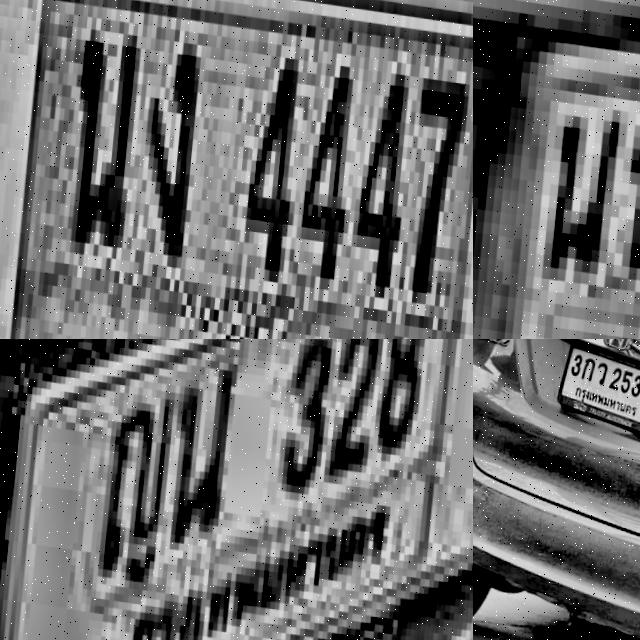license-plate: (0, 0, 473, 339), (0, 339, 473, 640), (473, 0, 640, 339), (555, 339, 640, 440)
